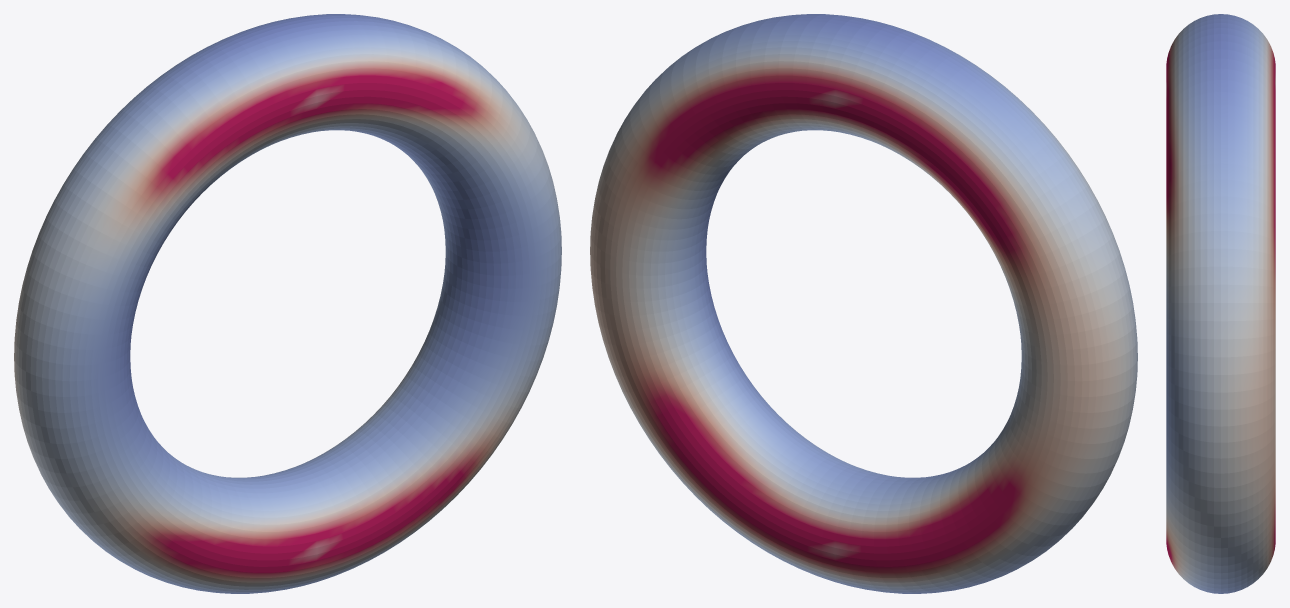
The picture shows the model from 3 angles, left to right: view 1: azimuth 30°, elevation 25°; view 2: azimuth 150°, elevation 25°; view 3: azimuth 270°, elevation 25°; orthographic projection. The views are drawn at different scales.
Visible parts, largest first — view 1: world; view 2: world; view 3: world.
Boxes of the visible parts, left/top/right/bottom form: world: left=14, top=14, right=561, bottom=593; world: left=590, top=14, right=1137, bottom=593; world: left=1166, top=14, right=1275, bottom=593.
Bounding box in the file's own units: 24.67 × 24.67 × 4.66.
